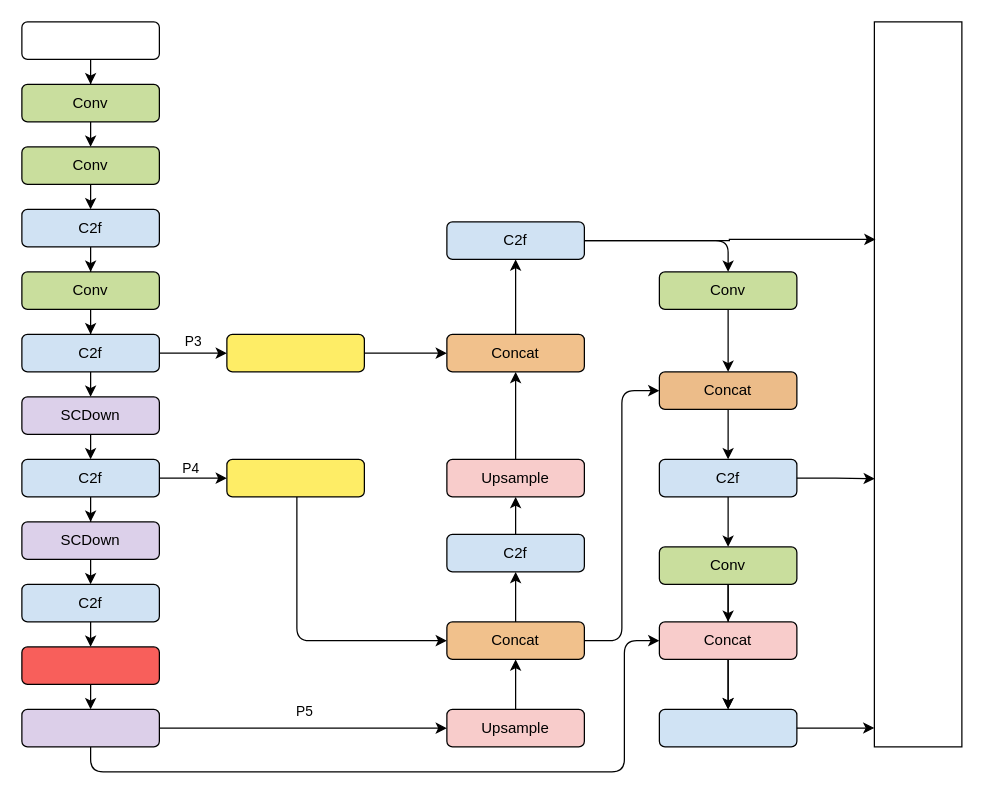
Some shapes in this 984 by 804 pixel diagram are drawn without their labels. Each missing label, with the box of its shape:
C2fCIB: (658, 708, 797, 747)
Input pseudo-color (H,W,3): (21, 21, 159, 59)
PSA: (21, 708, 159, 747)
SPPF: (21, 646, 159, 684)
TSGM-P3: (226, 333, 364, 372)
TSGM-P4: (226, 458, 364, 497)
v10Detect (NMS-Free): (873, 21, 962, 747)
